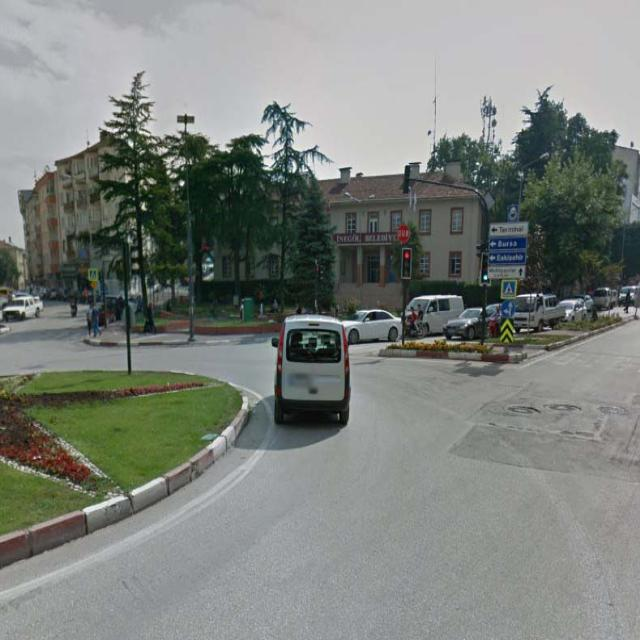dur: (397, 225, 409, 241)
ilerisol: (502, 300, 516, 318)
kirmizi: (402, 248, 412, 278)
yesil: (482, 252, 489, 283)
